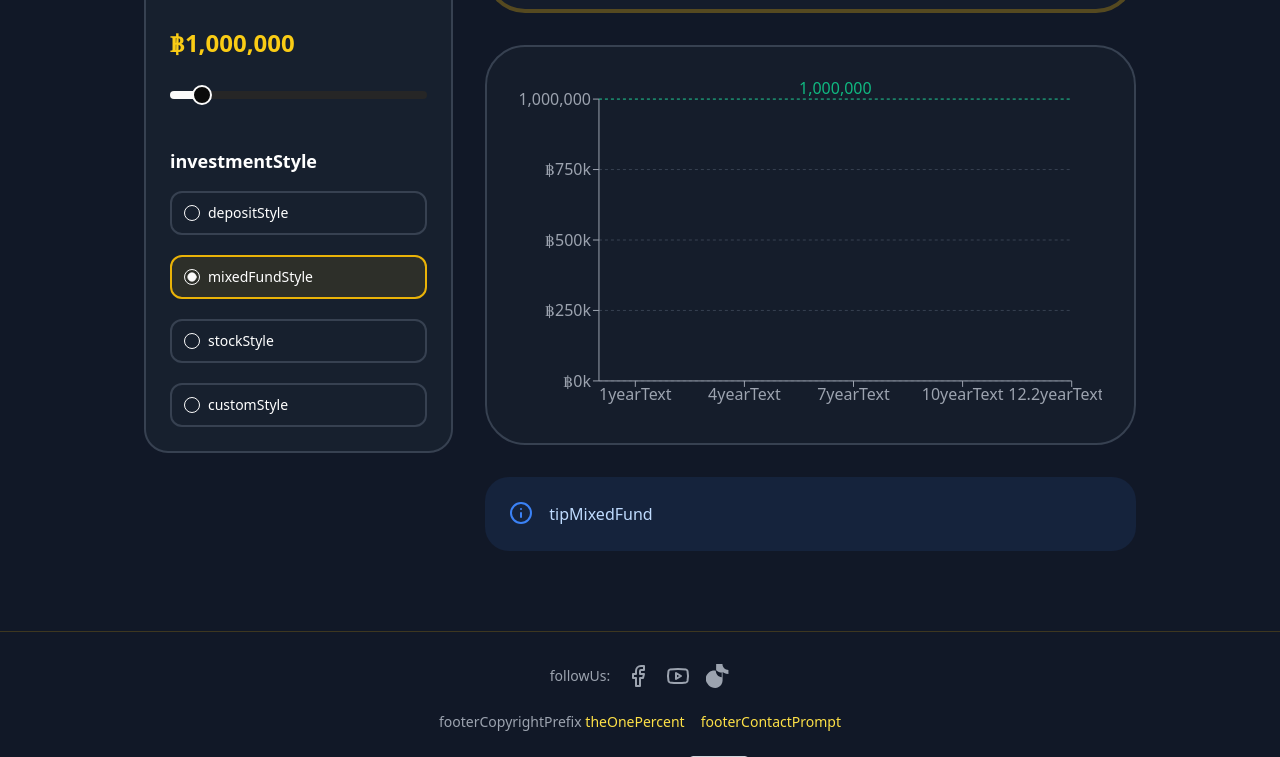
FirstMillionPage › updates tip text when investment style changes
(page scrolled)
Expected: the text "tipMixedFund" is shown, [549,501,653,527]
# Click on 8% stock style
Click the radio button named "stockStyle" next to "stockStyle" at (192, 341), box [184,333,200,349]
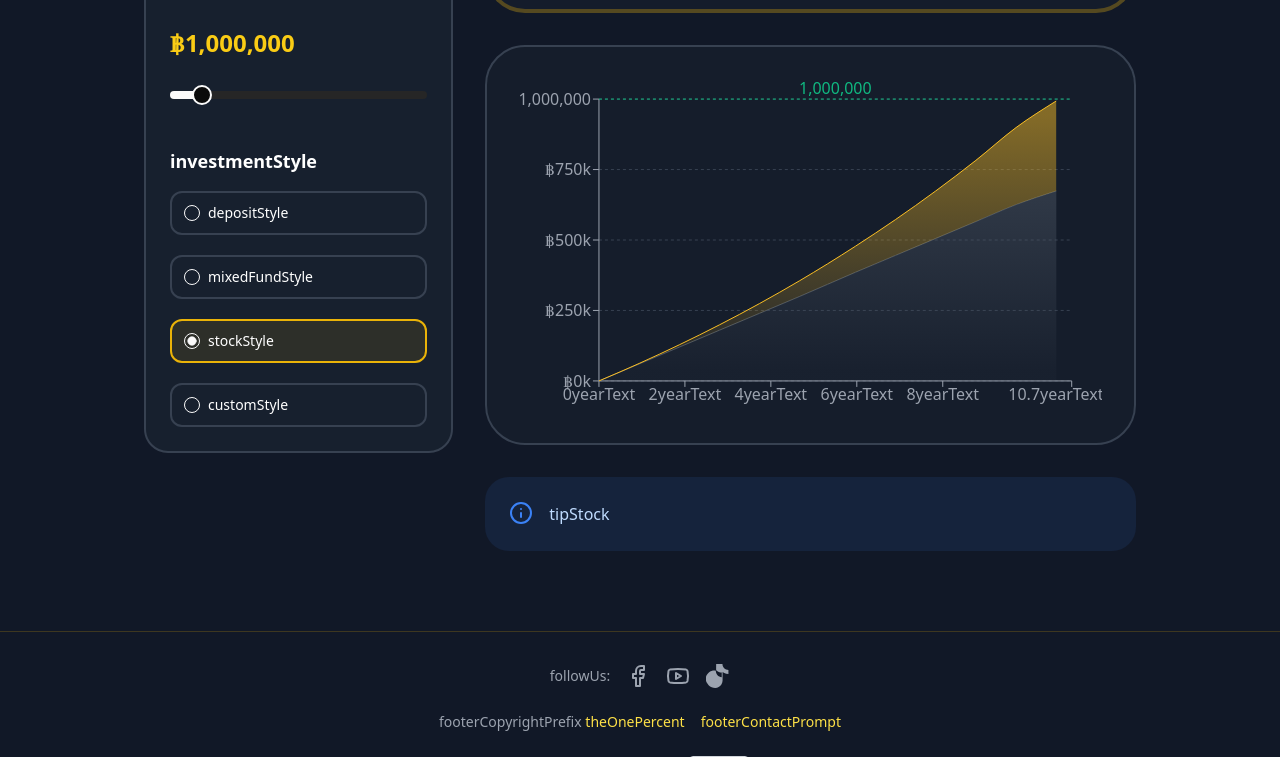
Result: the text "tipStock" is shown at [549,501,610,527]
